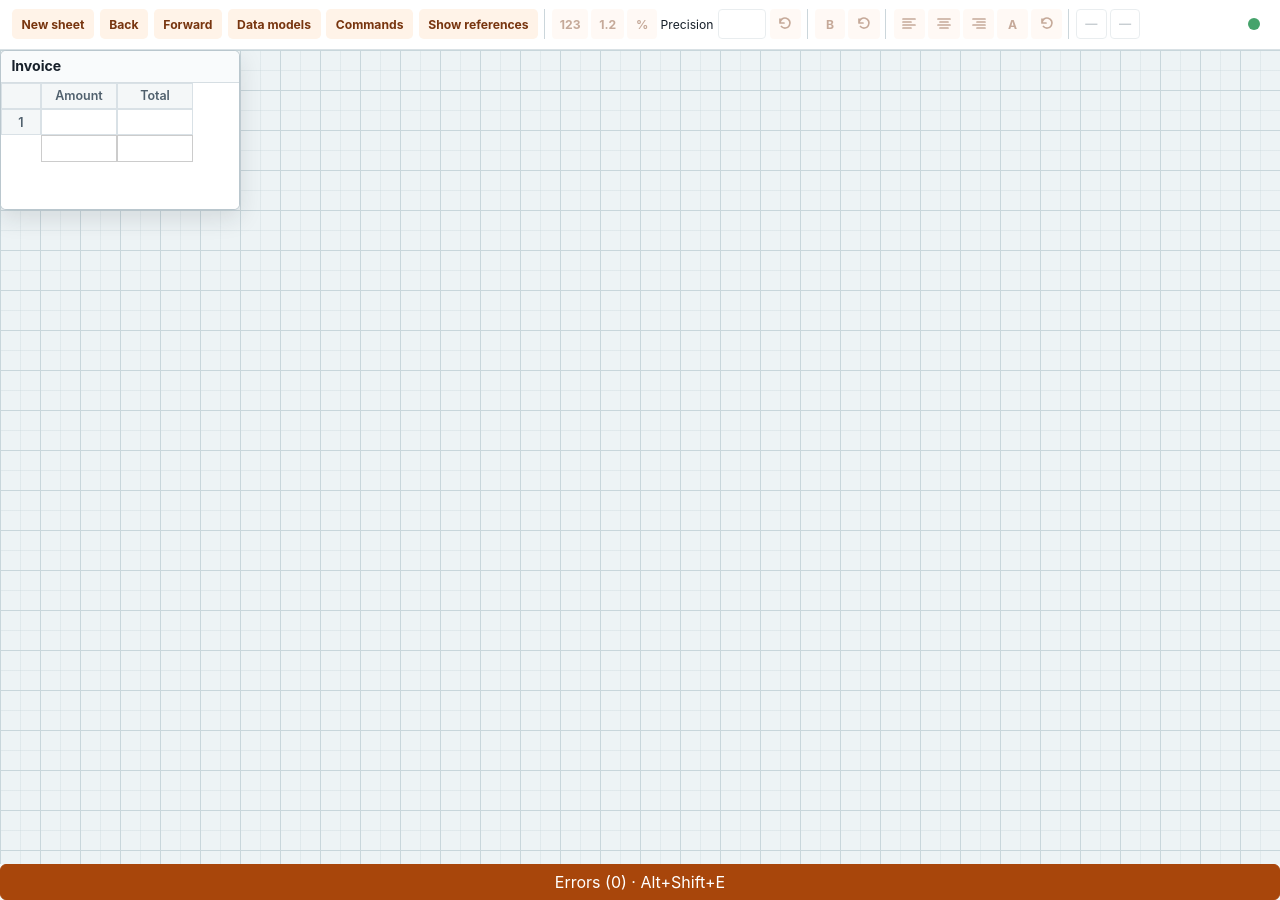
Test case: navigation palette composition › labels cell and property usage results by scope and dependency distance
Click the cell named "Invoice A1 empty cell" at (79, 122), box [41, 109, 117, 135]
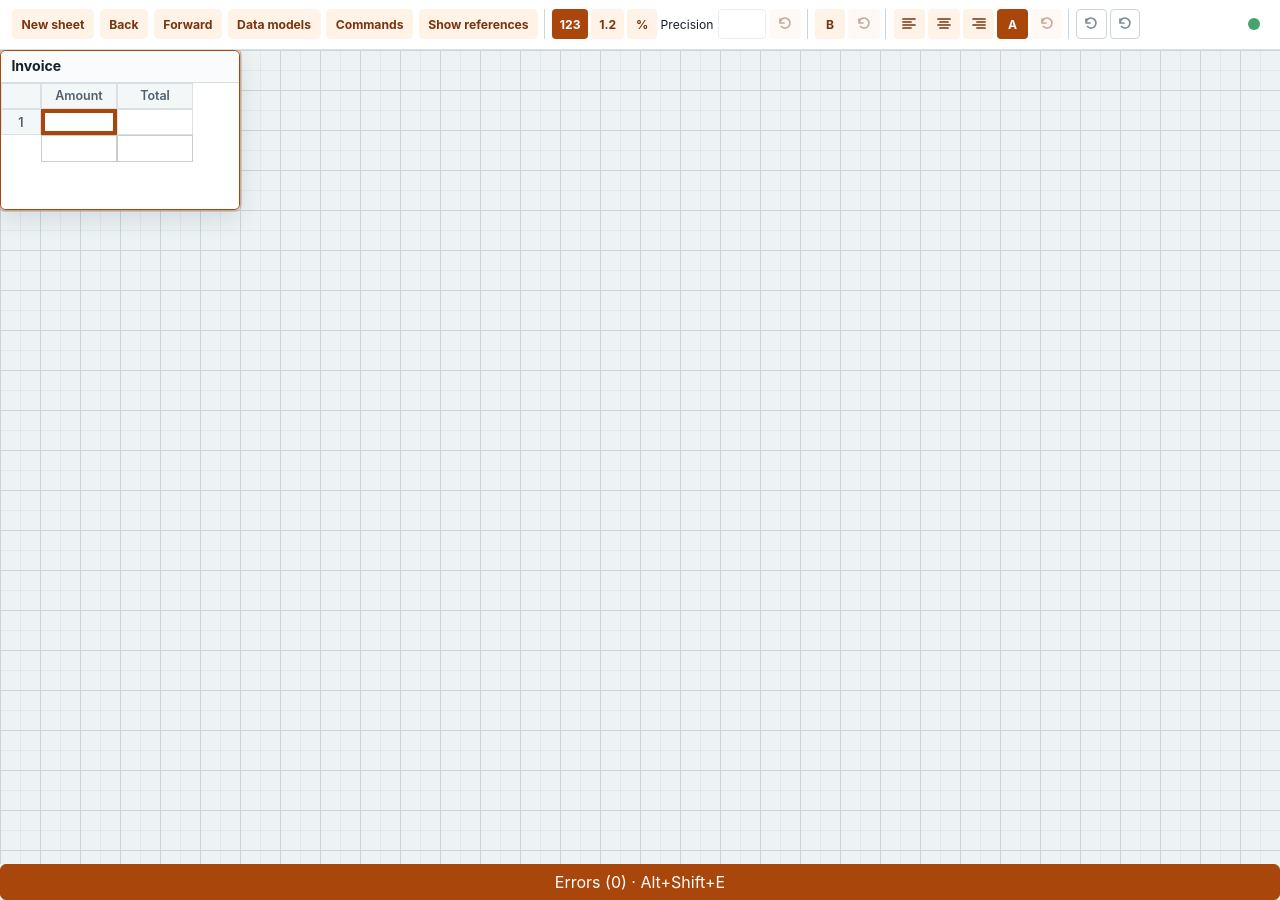
Click the button with aria-label "Command palette" at (370, 24), box [326, 9, 413, 40]
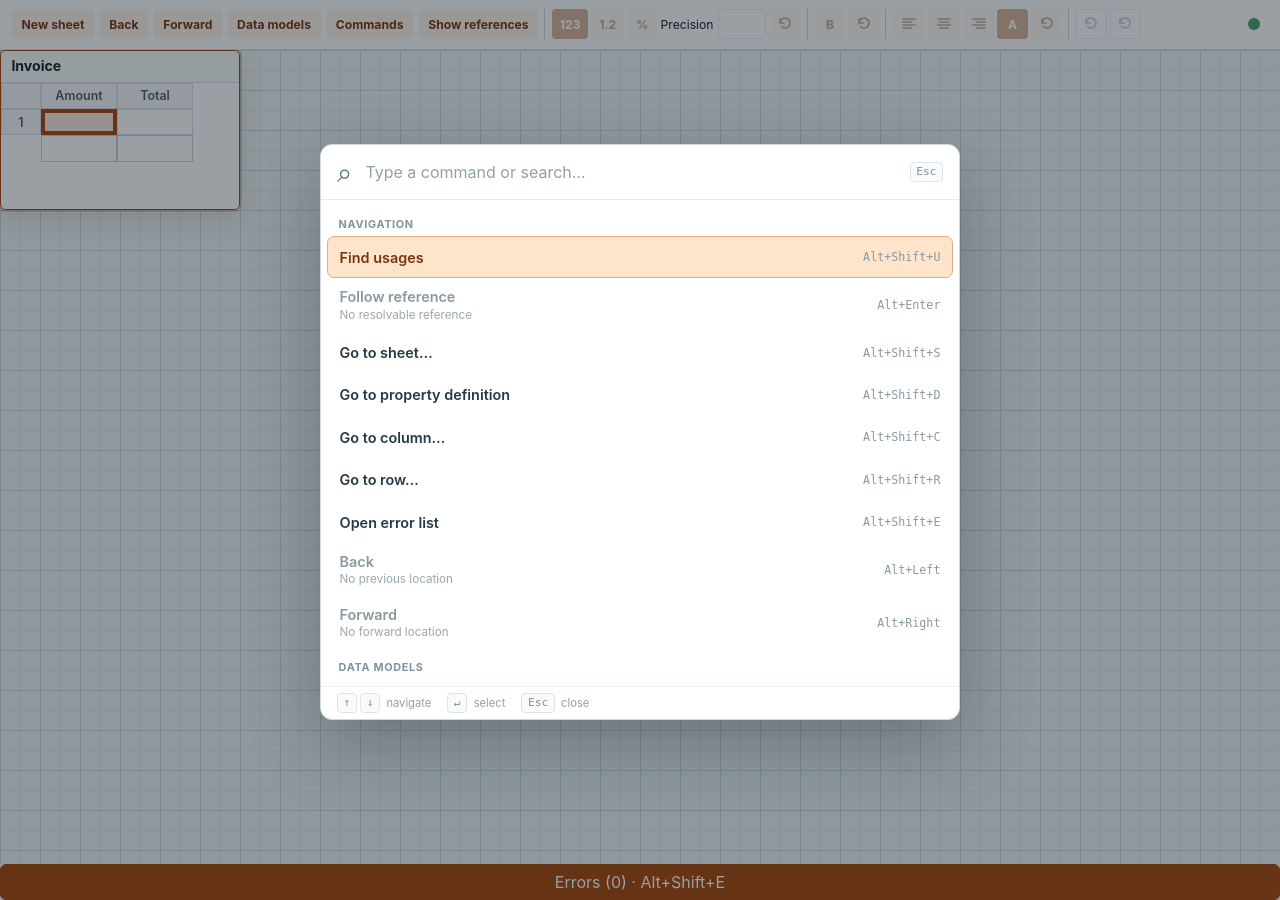
Type "Find usages" into the dropdown named "Command search" at (631, 172), box [363, 161, 898, 183]
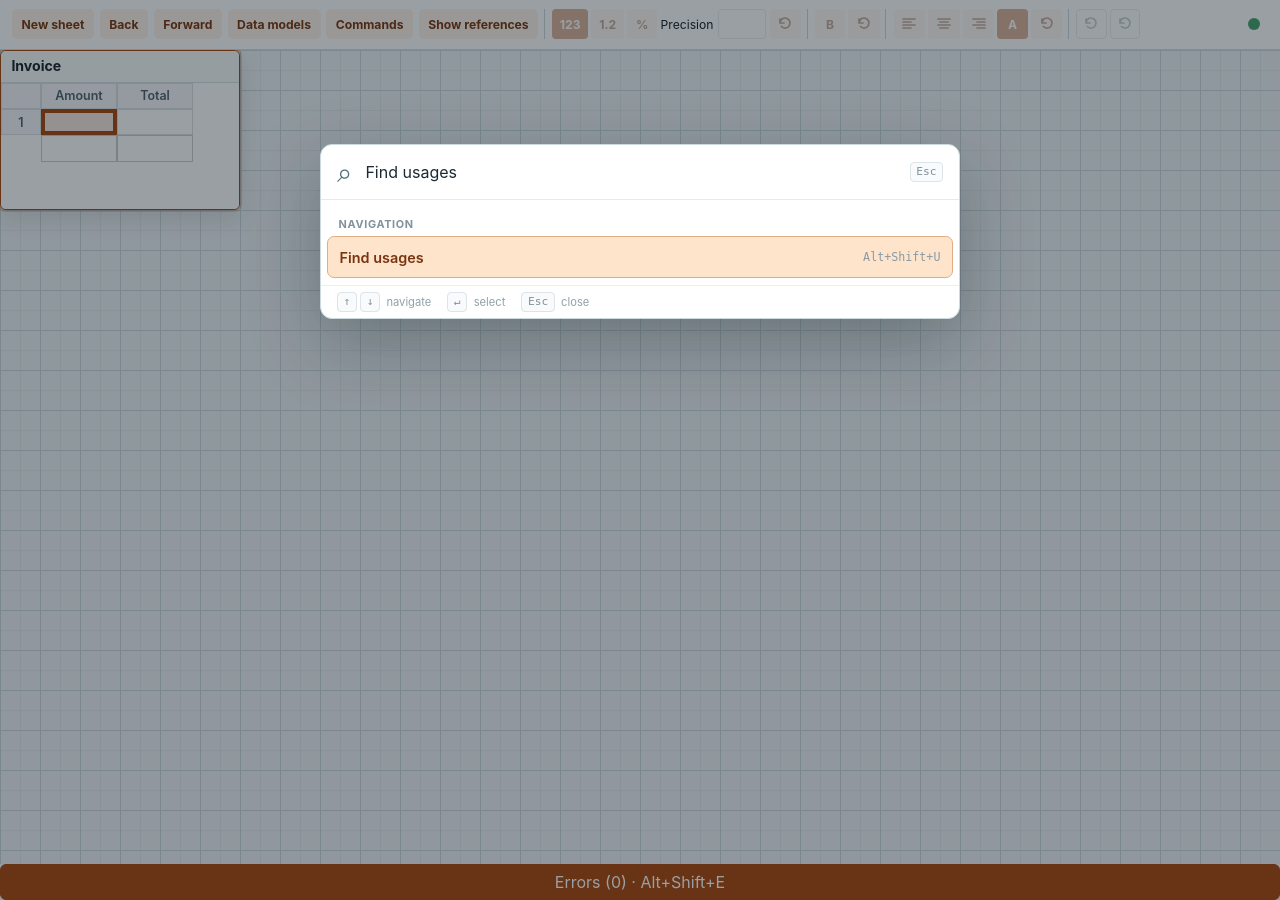
Press Enter
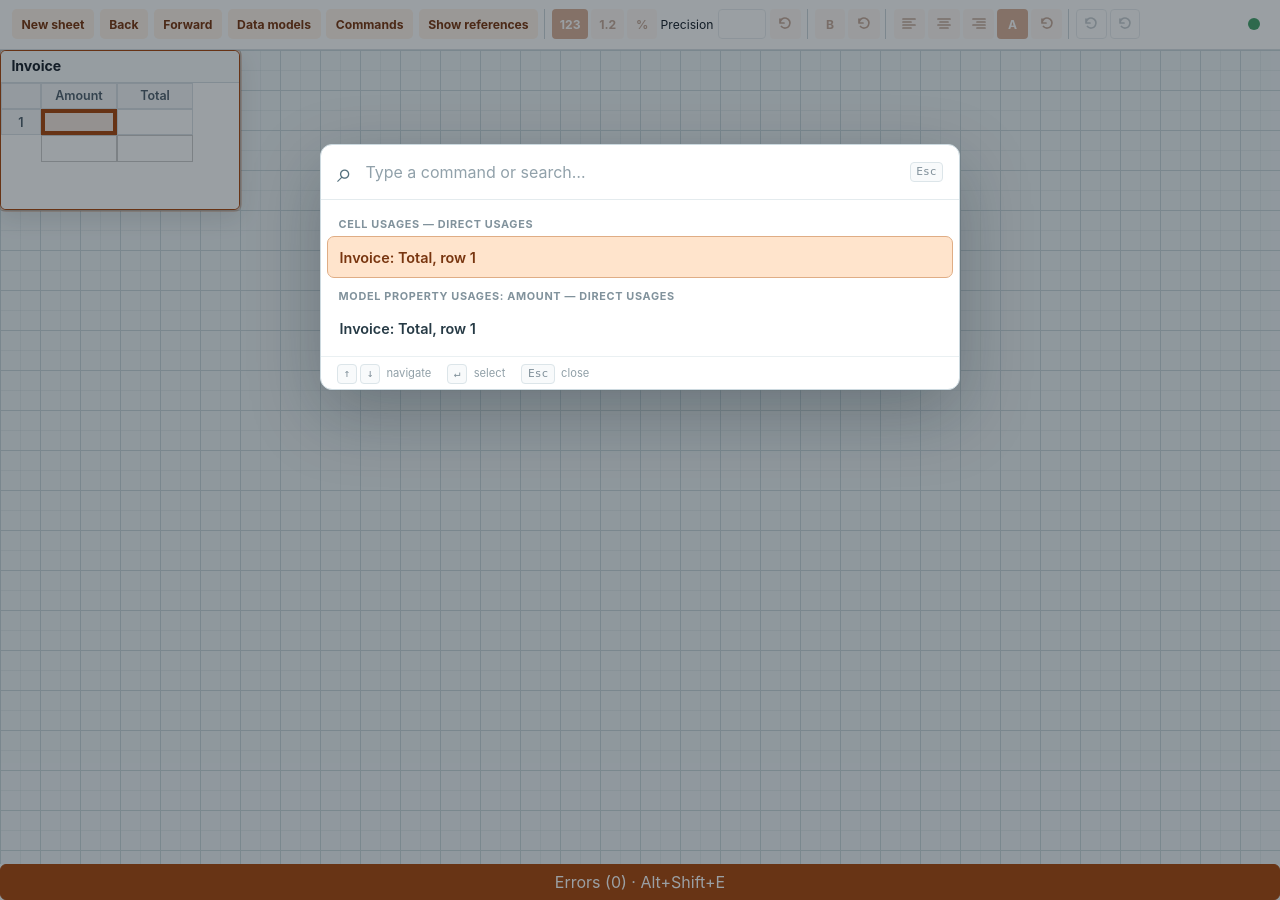
Expected: the text "Cell usages — Direct usages" is shown, [339, 217, 533, 231]
Expected: the text "Model property usages: Amount — Direct usages" is shown, [339, 289, 675, 303]
Expected: the number of buttons "Invoice: Total, row 1" is 2, [327, 236, 953, 278]; [327, 308, 953, 350]
